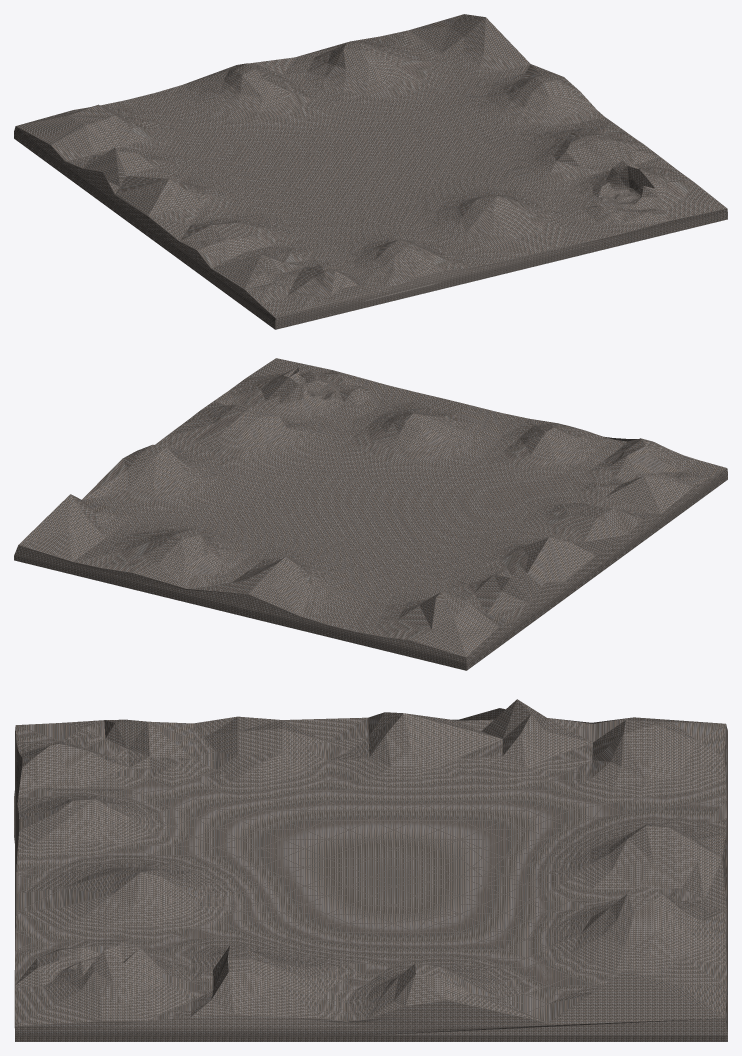
Rendered from hory.glb.
3 renders of one model, top to bottom at view 1: azimuth 30°, elevation 25°; view 2: azimuth 150°, elevation 25°; view 3: azimuth 270°, elevation 25°, orthographic. The views are drawn at different scales.
Visible parts, largest first — view 1: Krychle; view 2: Krychle; view 3: Krychle.
Part boxes in pixels (left/top/right/bottom): Krychle: left=14, top=14, right=727, bottom=329; Krychle: left=14, top=358, right=727, bottom=670; Krychle: left=14, top=699, right=727, bottom=1041.
Size of the model in its own units: 100 by 9.12 by 100.
1 material, 1 textured.
